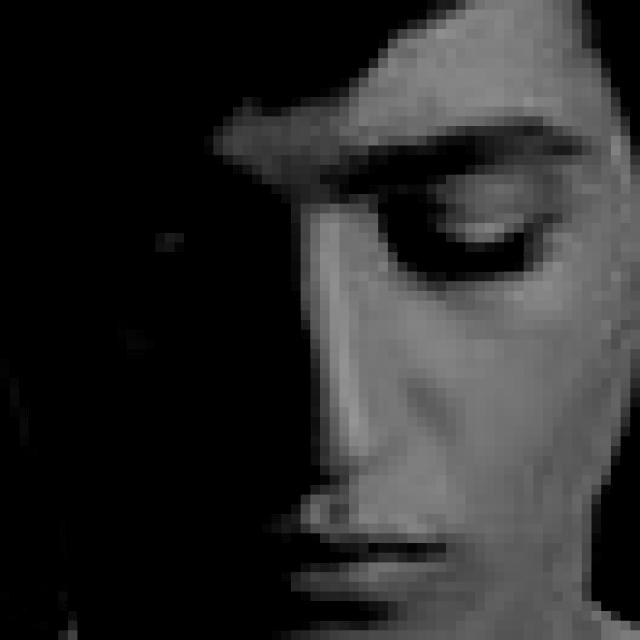real: (28, 30, 623, 628), (94, 172, 564, 320)
